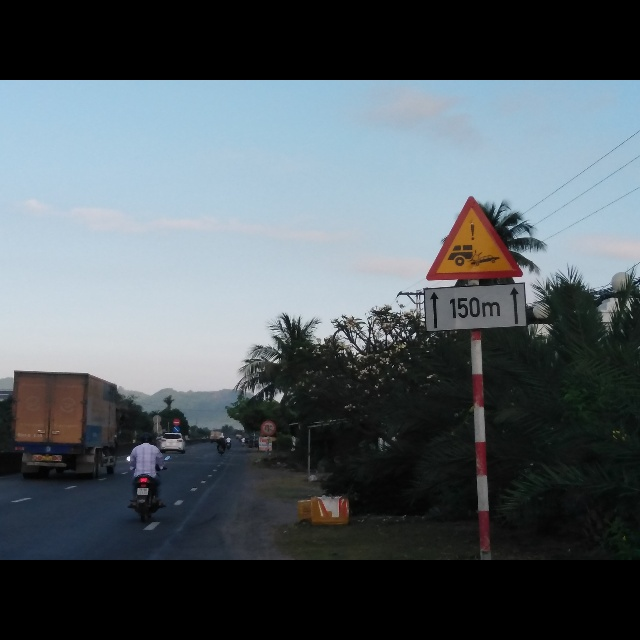Đoạn đường hay xảy ra tai nạn: (426, 196, 523, 282)
